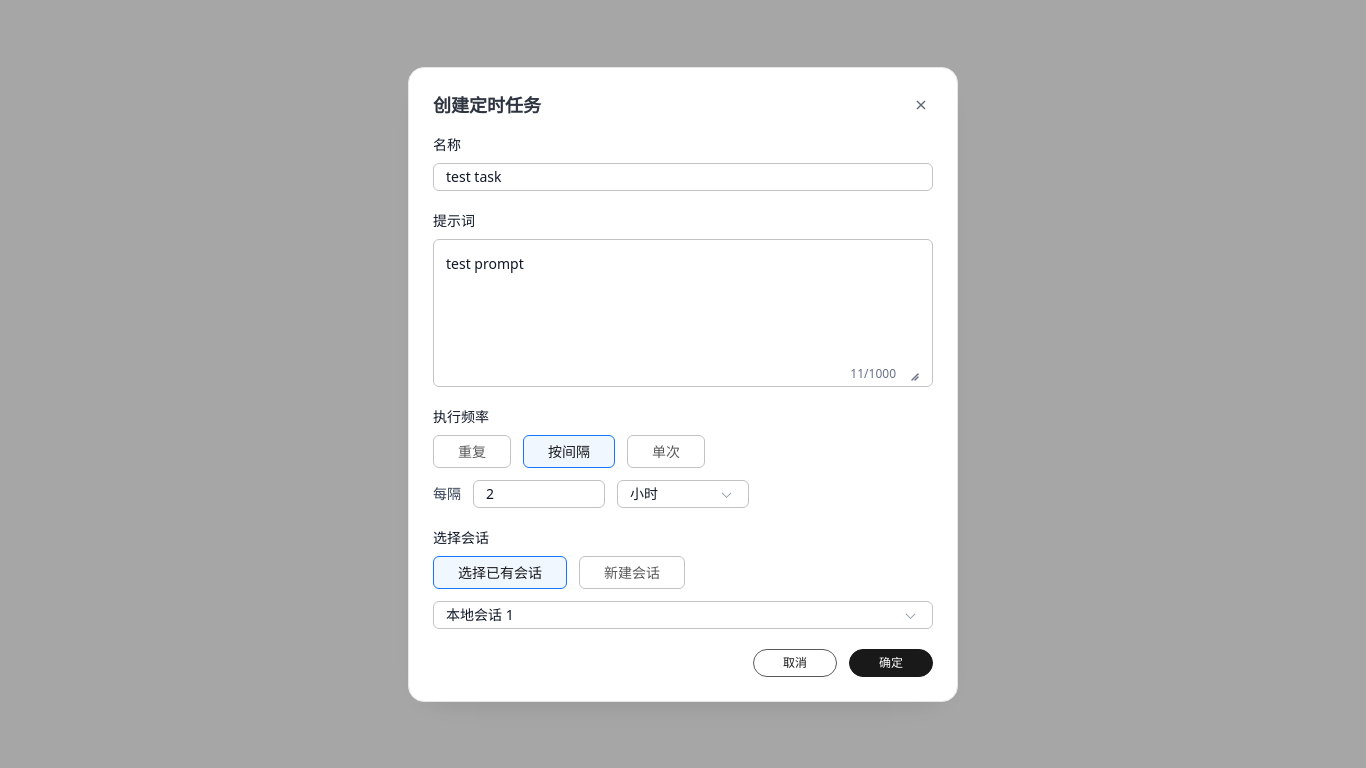
it: ScheduleTaskEditorModal › renders interval value and unit controls and updates the selected unit
Expected: the number field with test id "schedule-editor-interval-value" holds "2", [473,480,605,508]
Click the button with test id "schedule-editor-interval-unit" at point(683, 494), box [617,480,749,508]
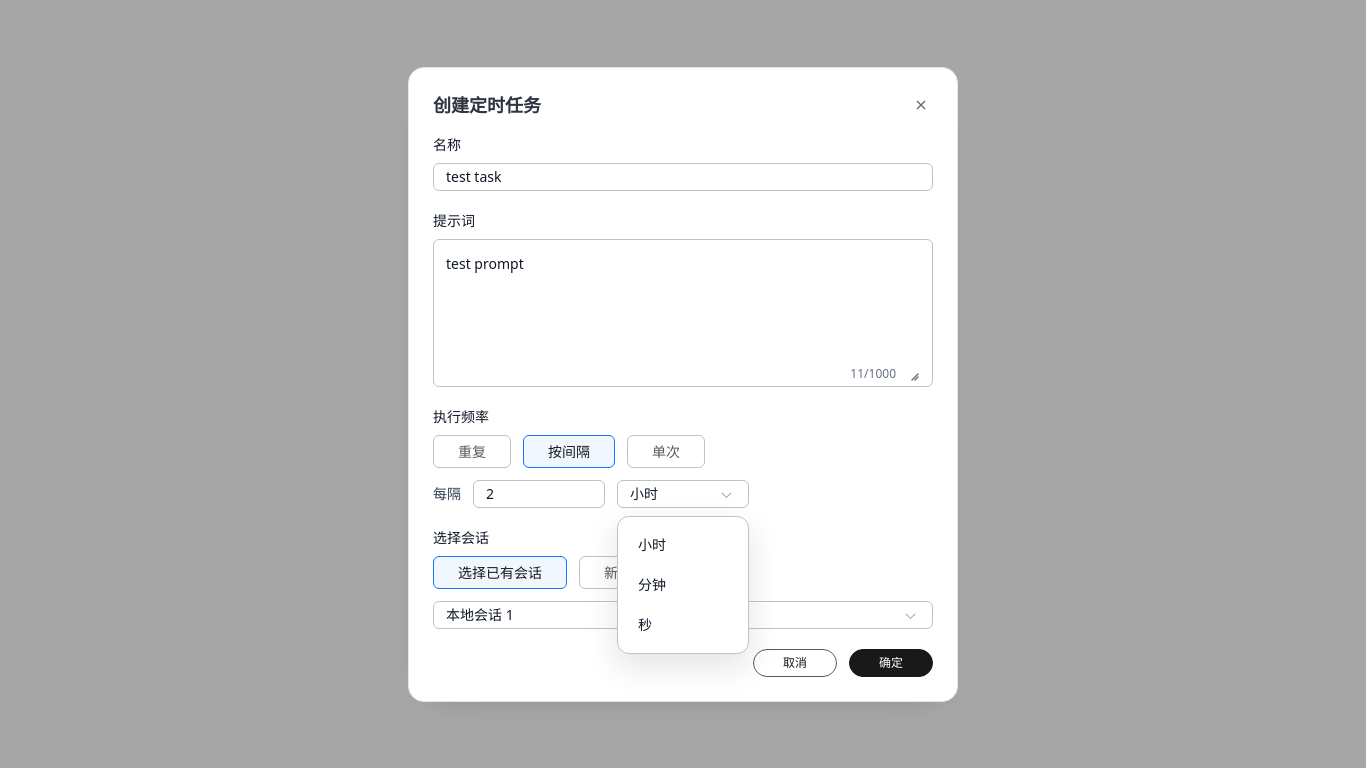
Result: the element with test id "schedule-editor-interval-unit-panel" is shown at [617,516,749,654]
Result: the button with test id "schedule-editor-interval-unit-option-minute" is shown
Click the button with test id "schedule-editor-interval-unit-option-minute" at point(683, 584), box [626,564,740,604]
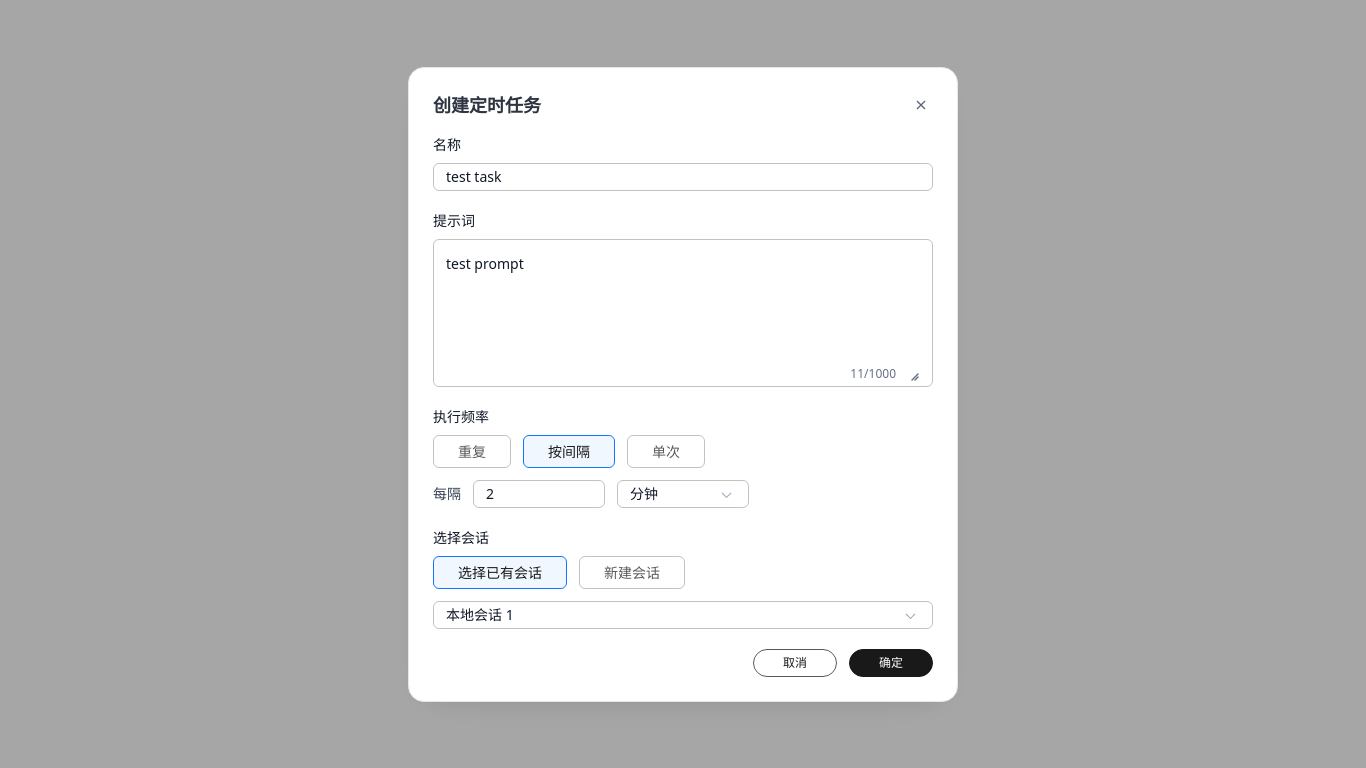
Result: the element with test id "schedule-editor-interval-unit-panel" is gone
Result: the button with test id "schedule-editor-interval-unit" reads "分钟" at [617,480,749,508]
